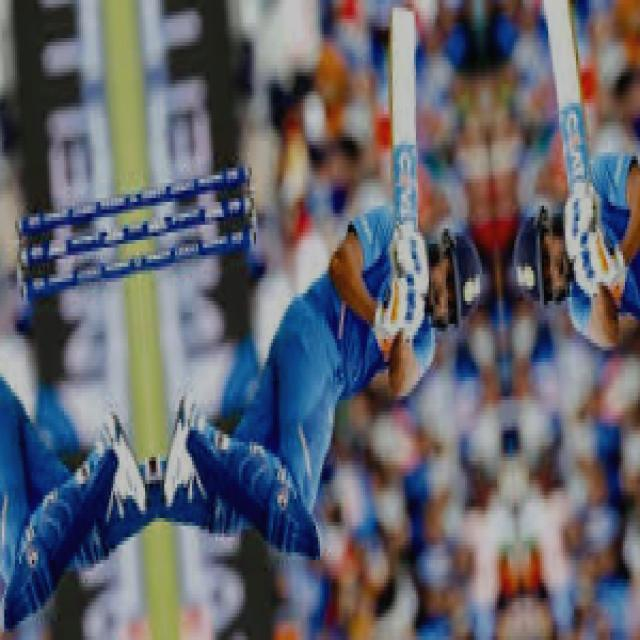toe: (385, 1, 421, 36)
